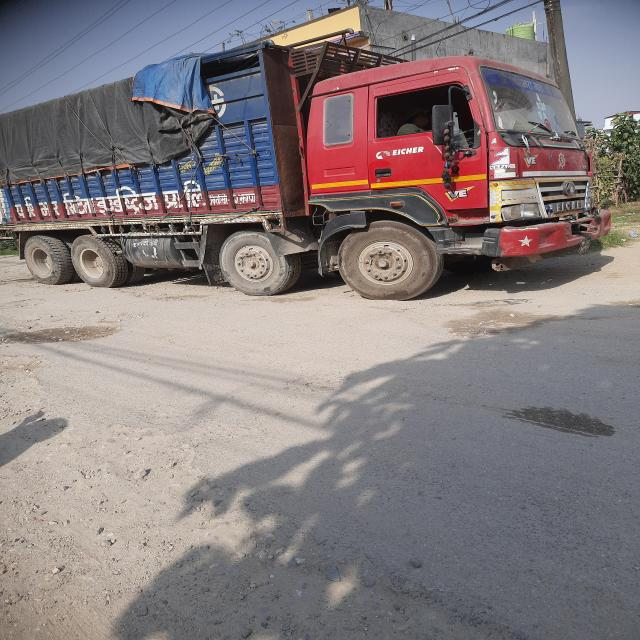Truck: (0, 0, 617, 312)
